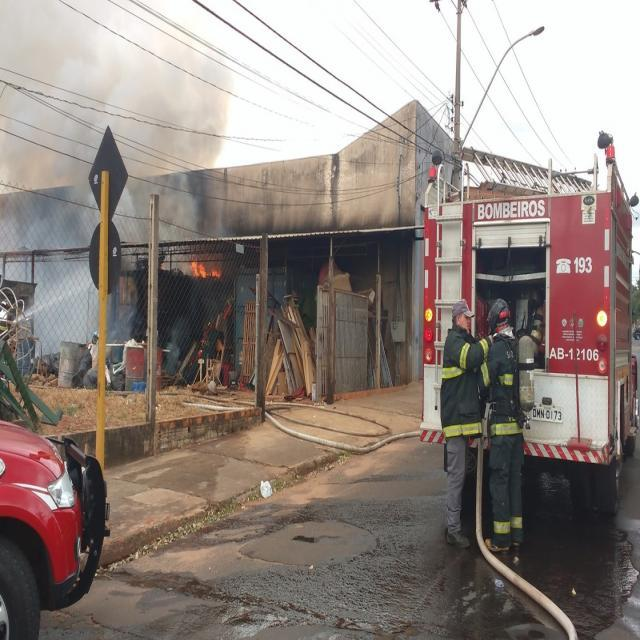Fire: (190, 254, 220, 283)
